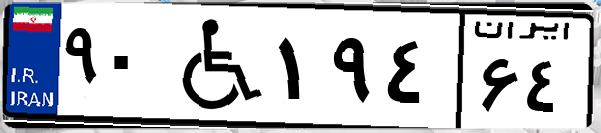0: (110, 28, 158, 98)
1: (270, 28, 330, 110)
4: (385, 28, 445, 110), (525, 38, 570, 115)
6: (475, 38, 525, 113)
9: (330, 28, 385, 110), (57, 26, 110, 100)
ژ (معلولین و جانبازان): (158, 12, 270, 120)
